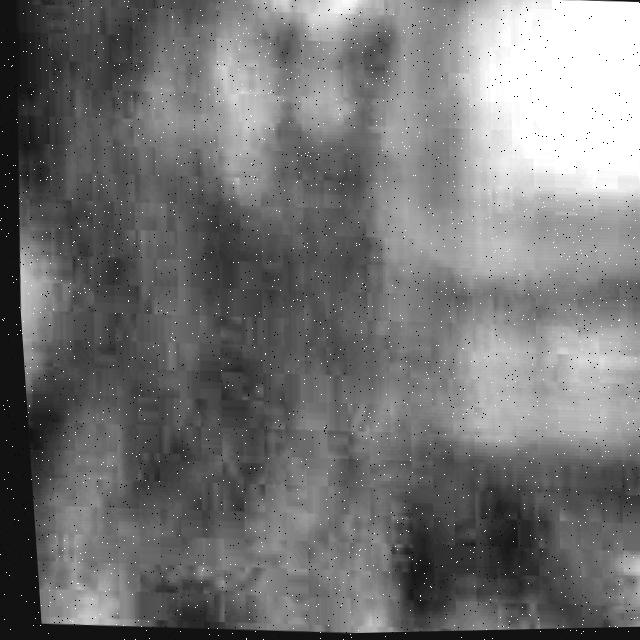dog: (493, 0, 640, 629)
